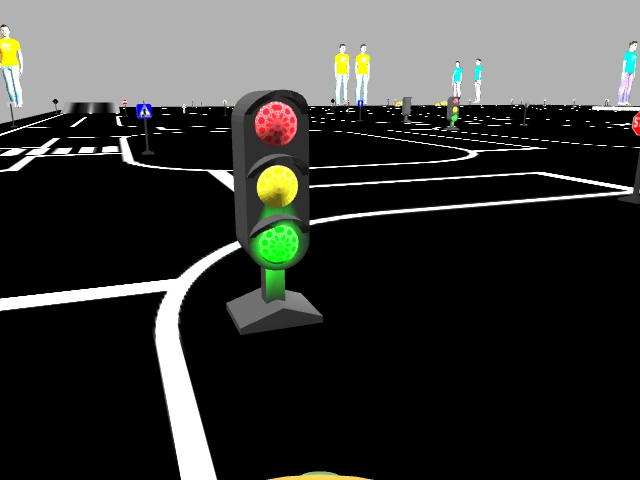Crosswalk: (136, 103, 151, 117)
TrafficLight: (234, 89, 311, 267)
